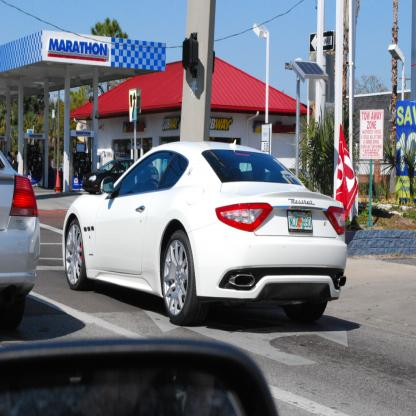Car: (63, 143, 348, 327), (1, 151, 42, 330)
